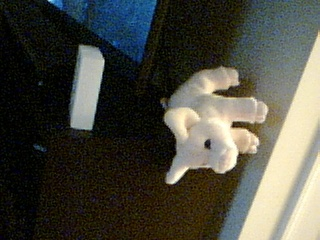piggy: (159, 65, 270, 187)
